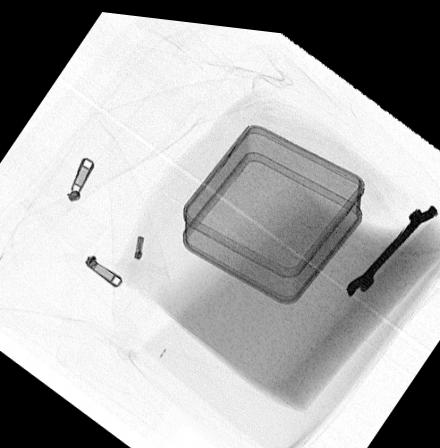Wrench: (345, 193, 439, 287)
